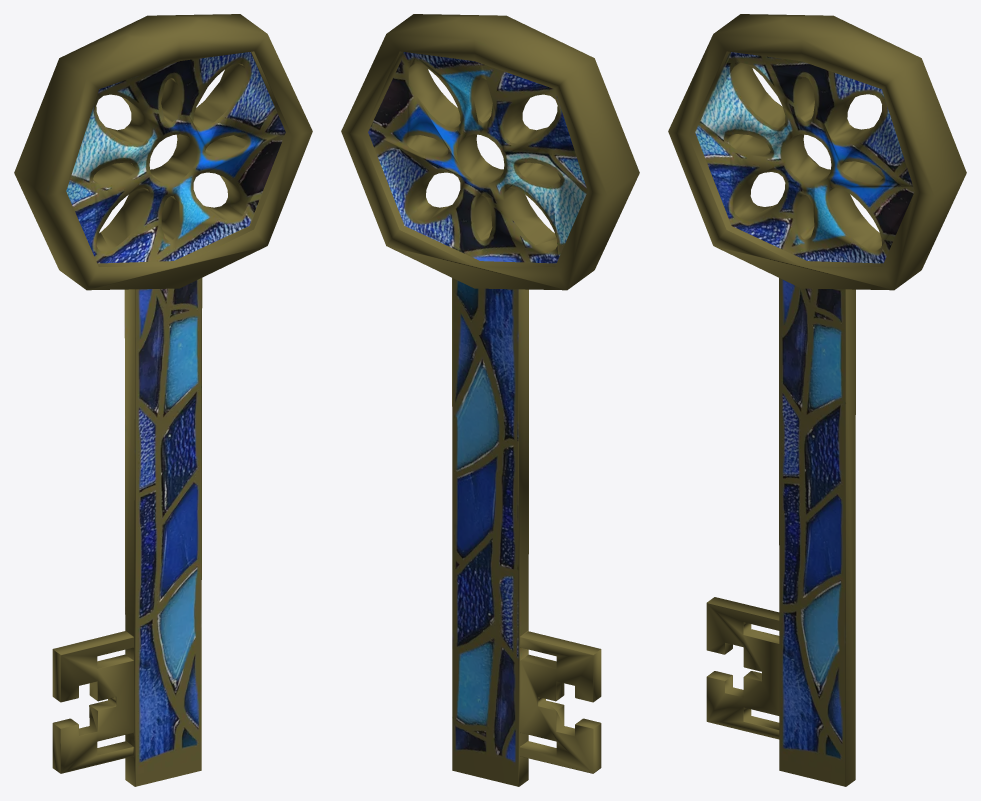
The model's file is key_lowPoly.glb.
The picture shows the model from 3 angles, left to right: view 1: azimuth 30°, elevation 25°; view 2: azimuth 150°, elevation 25°; view 3: azimuth 330°, elevation 25°; orthographic projection.
Parts seen in each view (by area): view 1: Mesh_0.005; view 2: Mesh_0.005; view 3: Mesh_0.005.
Boxes of the visible parts, box(x1,y1,x2,y2) form: Mesh_0.005: box(14, 14, 312, 786); Mesh_0.005: box(341, 14, 639, 786); Mesh_0.005: box(668, 14, 966, 786).
Size of the model in its own units: 0.1995 by 0.5347 by 0.0416.
1 material, 1 textured.
